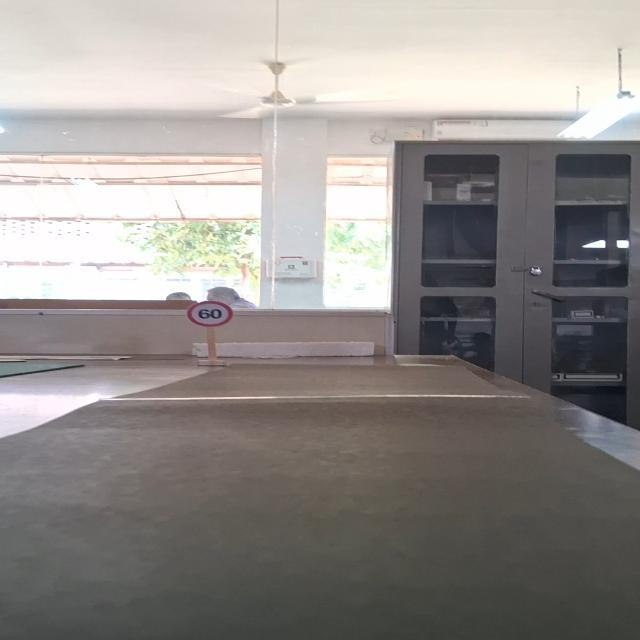Speed60: (186, 300, 234, 328)
